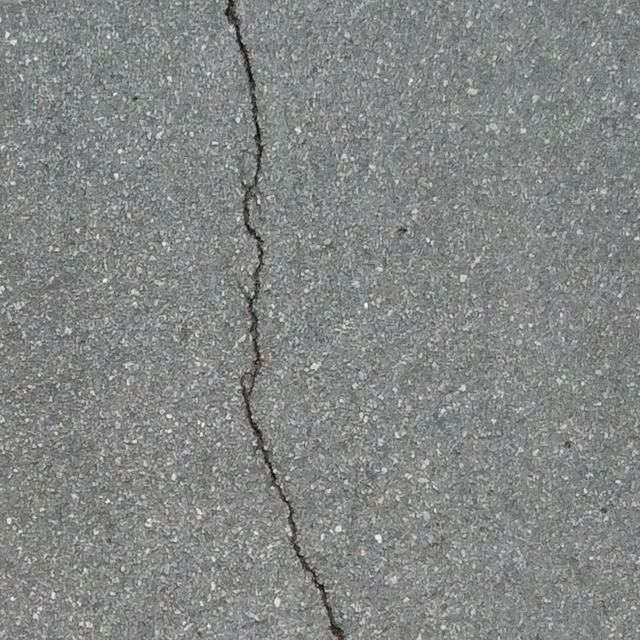LongitudinalCrack: (222, 1, 347, 640)
